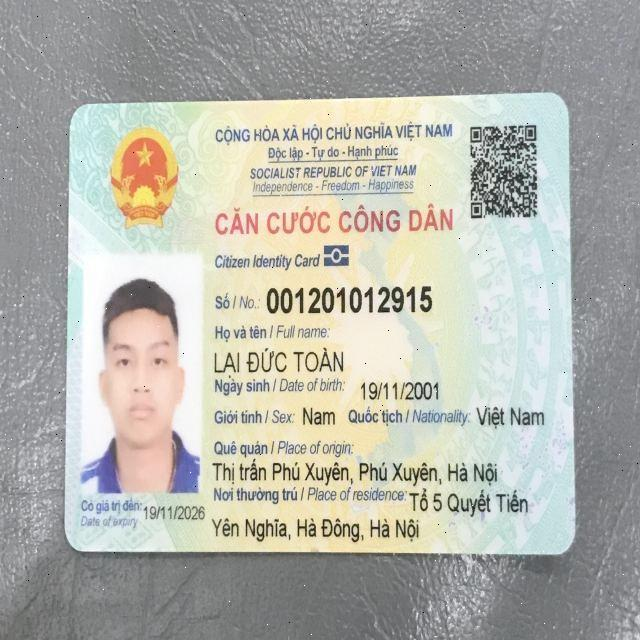current_place: (211, 513, 421, 544), (406, 486, 531, 515)
dob: (360, 379, 438, 402)
expire_date: (144, 501, 206, 522)
gender: (299, 402, 339, 431)
id: (265, 278, 433, 312)
name: (211, 345, 351, 379)
nationality: (473, 396, 548, 435)
origin_place: (213, 455, 501, 488)
